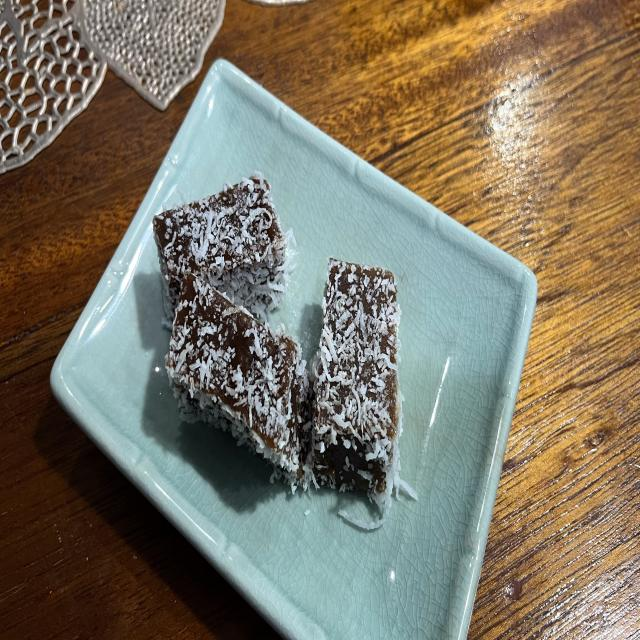kaswi: (165, 273, 312, 491), (312, 258, 401, 507), (152, 171, 292, 327)
